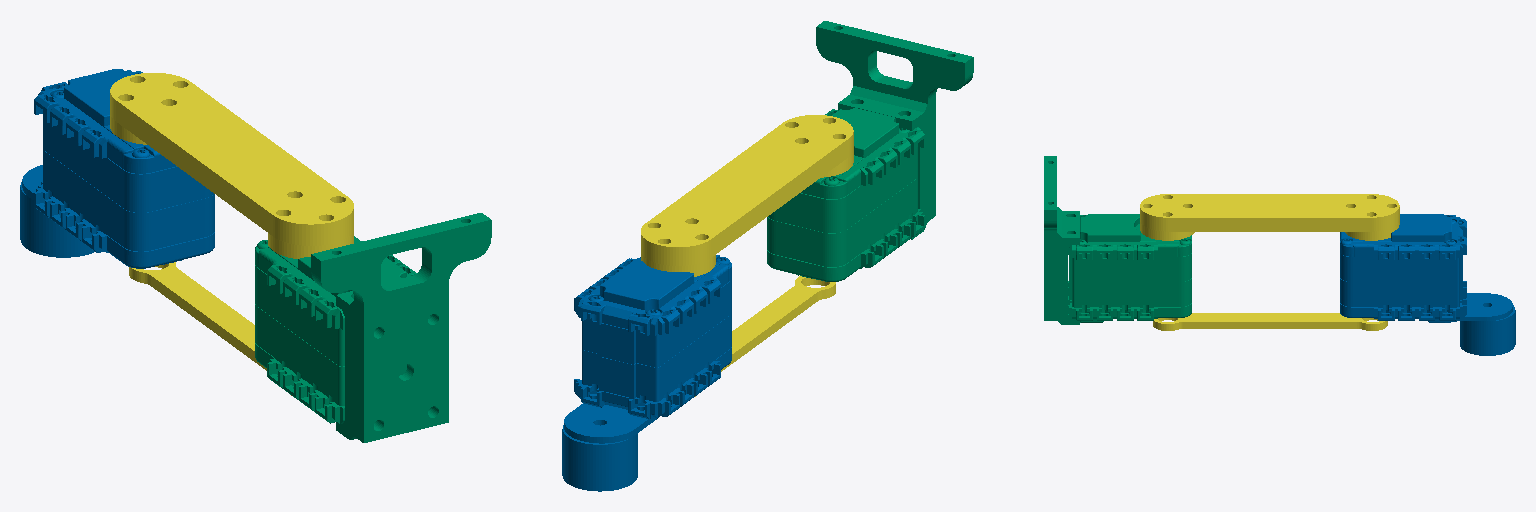
The robot description file, URDF, robot "scara_cpe":
<?xml version="1.0" ?>
<!-- =================================================================================== -->
<!-- |    This document was autogenerated by xacro from scara_cpe.xacro                | -->
<!-- |    EDITING THIS FILE BY HAND IS NOT RECOMMENDED                                 | -->
<!-- =================================================================================== -->
<robot name="scara_cpe" xmlns:xacro="http://ros.org/wiki/xacro">
  <!-- Import all Gazebo-customization elements, including Gazebo colors -->
  <!-- ros_control plugin -->
  <gazebo>
    <plugin filename="libgazebo_ros_control.so" name="gazebo_ros_control">
      <robotNamespace>/scara_cpe</robotNamespace>
      <robotSimType>gazebo_ros_control/DefaultRobotHWSim</robotSimType>
    </plugin>
  </gazebo>
  <!-- Link3 -->
  <gazebo reference="base_link">
    <mu1>0.2</mu1>
    <mu2>0.2</mu2>
    <material>Gazebo/Black</material>
  </gazebo>
  <!-- Link1 -->
  <gazebo reference="link1">
    <material>Gazebo/Orange</material>
  </gazebo>
  <!-- Link2 -->
  <gazebo reference="link2">
    <mu1>0.2</mu1>
    <mu2>0.2</mu2>
    <material>Gazebo/Black</material>
  </gazebo>
  <!-- LINK -->
  <link name="world"/>
  <link name="camera_link">
    <inertial>
      <mass value="0.001"/>
      <origin xyz="0 0 0"/>
      <inertia ixx="0.0001" ixy="0.0" ixz="0.0" iyy="0.0001" iyz="0.0" izz="0.0001"/>
    </inertial>
  </link>
  <link name="base_link">
    <visual>
      <origin rpy="-1.57079632679 0 -1.57079632679" xyz="0 0.034 0"/>
      <geometry>
        <mesh filename="package://scara_cpe_description/urdf/scara_cpe-base_link.dae" scale="0.001 0.001 0.001"/>
      </geometry>
    </visual>
    <inertial>
      <origin rpy="0 0 0" xyz="0 0.025 0"/>
      <mass value="0.1"/>
      <inertia ixx="0.0001" ixy="1e-12" ixz="1e-12" iyy="0.0001" iyz="1e-12" izz="0.0001"/>
    </inertial>
  </link>
  <link name="link1">
    <visual>
      <origin rpy="-1.57079632679 0 -1.57079632679" xyz="0 -0.012 0"/>
      <geometry>
        <mesh filename="package://scara_cpe_description/urdf/scara_cpe-link_1.dae" scale="0.001 0.001 0.001"/>
      </geometry>
    </visual>
    <collision>
      <origin rpy="0 0 0" xyz="0 0.04 0"/>
      <geometry>
        <box size="0.02 0.04 0.05"/>
      </geometry>
    </collision>
    <inertial>
      <origin rpy="0 0 0" xyz="0 0.04 0"/>
      <mass value="0.1"/>
      <inertia ixx="0.00003" ixy="1e-12" ixz="1e-12" iyy="0.00003" iyz="1e-12" izz="0.00003"/>
    </inertial>
  </link>
  <link name="link2">
    <visual>
      <origin rpy="-1.57079632679 0 -1.42579632679" xyz="0.0133 -0.092 0"/>
      <!-- -1.42579632679  - pi/2 + 0.145 -->
      <geometry>
        <mesh filename="package://scara_cpe_description/urdf/scara_cpe-link_2.dae" scale="0.001 0.001 0.001"/>
      </geometry>
    </visual>
    <collision>
      <origin rpy="0 0 0" xyz="0 0.0235 0"/>
      <geometry>
        <box size="0.032 0.047 0.06"/>
      </geometry>
    </collision>
    <inertial>
      <origin rpy="0 0 0" xyz="0 0.02 0"/>
      <mass value="0.1"/>
      <inertia ixx="0.0001" ixy="1e-12" ixz="1e-12" iyy="0.0001" iyz="1e-12" izz="0.0001"/>
    </inertial>
  </link>
  <link name="end_link">
  </link>
  <!-- JOINT -->
  <joint name="base_fixed" type="fixed">
    <parent link="world"/>
    <child link="base_link"/>
    <origin rpy="0 0 0" xyz="0 0 .035"/>
  </joint>
  <joint name="camera_fixed" type="fixed">
    <parent link="world"/>
    <child link="camera_link"/>
    <origin rpy="-1.87079632679 0 0" xyz="0 -0.3 0.2"/>
  </joint>
  <joint name="shoulder_1_joint" type="revolute">
    <parent link="base_link"/>
    <child link="link1"/>
    <origin rpy="0 0 0" xyz="0 0.048 0"/>
    <limit effort="1.5" lower="-1.57079632679" upper="1.57079632679" velocity="1.0"/>
    <axis xyz="0 0 1"/>
  </joint>
  <joint name="shoulder_2_joint" type="revolute">
    <parent link="link1"/>
    <child link="link2"/>
    <origin rpy="0 0 0" xyz="0 0.08 0"/>
    <limit effort="1.5" lower="-2.8" upper="2.8" velocity="1.0"/>
    <axis xyz="0 0 -1"/>
  </joint>
  <joint name="end_joint" type="fixed">
    <parent link="link2"/>
    <child link="end_link"/>
    <origin rpy="0 0 0" xyz="0 0.047 -0.025"/>
  </joint>
  <transmission name="tran1">
    <type>SimpleTransmission</type>
    <joint name="shoulder_1_joint">
      <hardwareInterface>EffortJointInterface</hardwareInterface>
    </joint>
    <actuator name="motor1">
      <hardwareInterface>EffortJointInterface</hardwareInterface>
      <mechanicalReduction>1</mechanicalReduction>
    </actuator>
  </transmission>
  <transmission name="tran2">
    <type>SimpleTransmission</type>
    <joint name="shoulder_2_joint">
      <hardwareInterface>EffortJointInterface</hardwareInterface>
    </joint>
    <actuator name="motor2">
      <hardwareInterface>EffortJointInterface</hardwareInterface>
      <mechanicalReduction>1</mechanicalReduction>
    </actuator>
  </transmission>
</robot>

--- What the picture shows (computed from the rendered views, not written in the file) ---
3 views of the same robot in one strip: view 1: azimuth 30°, elevation 25°; view 2: azimuth 150°, elevation 25°; view 3: azimuth 270°, elevation 25° (orthographic).
Model scara_cpe with 6 links and 5 joints (2 revolute, 3 fixed), rooted at world, posed all joints at 0.
Visible links, largest first — view 1: base_link, link2, link1; view 2: base_link, link2, link1; view 3: base_link, link2, link1.
Link boxes in pixels (<box>): base_link: <box>255,213,491,442</box>; link2: <box>20,69,214,268</box>; link1: <box>110,73,353,395</box>; base_link: <box>767,21,973,281</box>; link2: <box>562,255,731,491</box>; link1: <box>641,115,853,396</box>; base_link: <box>1044,156,1191,324</box>; link2: <box>1340,214,1515,355</box>; link1: <box>1140,194,1399,330</box>.
Bounding box of the posed robot: 0.05 × 0.185 × 0.07 m (x, y, z).
3 mesh visuals loaded from 3 distinct referenced files (3 Collada DAE).